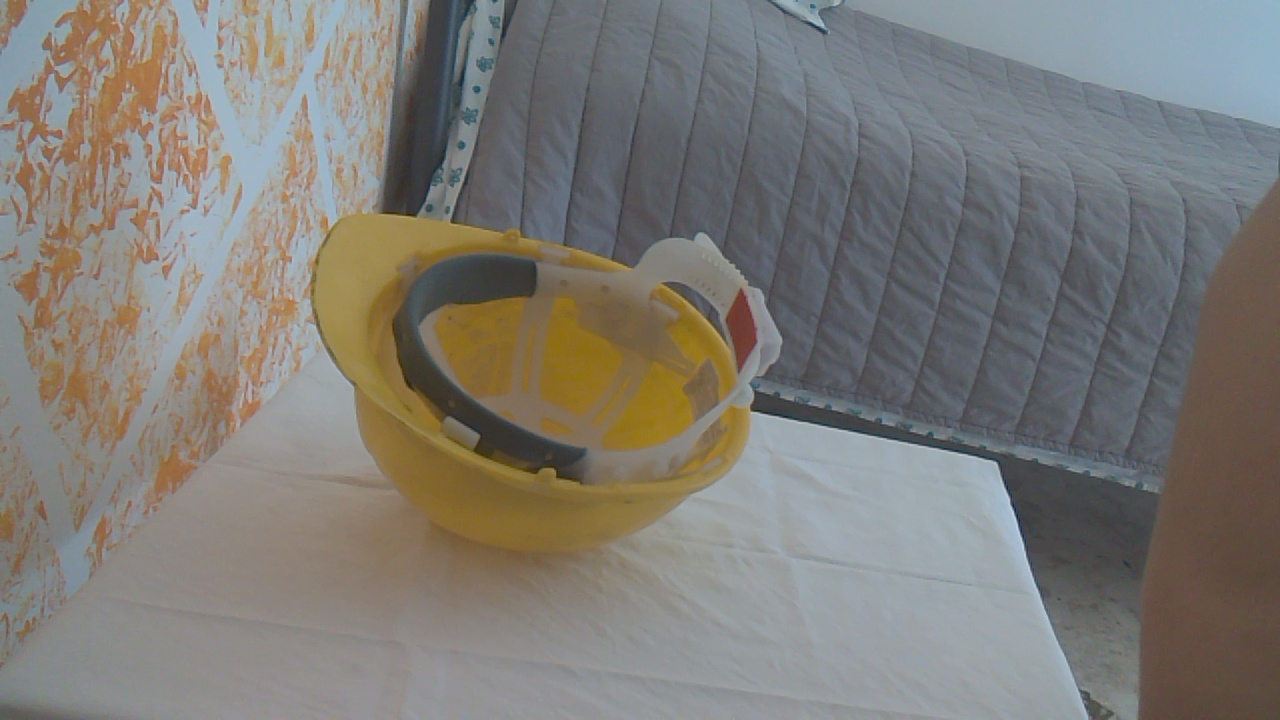Helmet: (316, 206, 790, 556)
